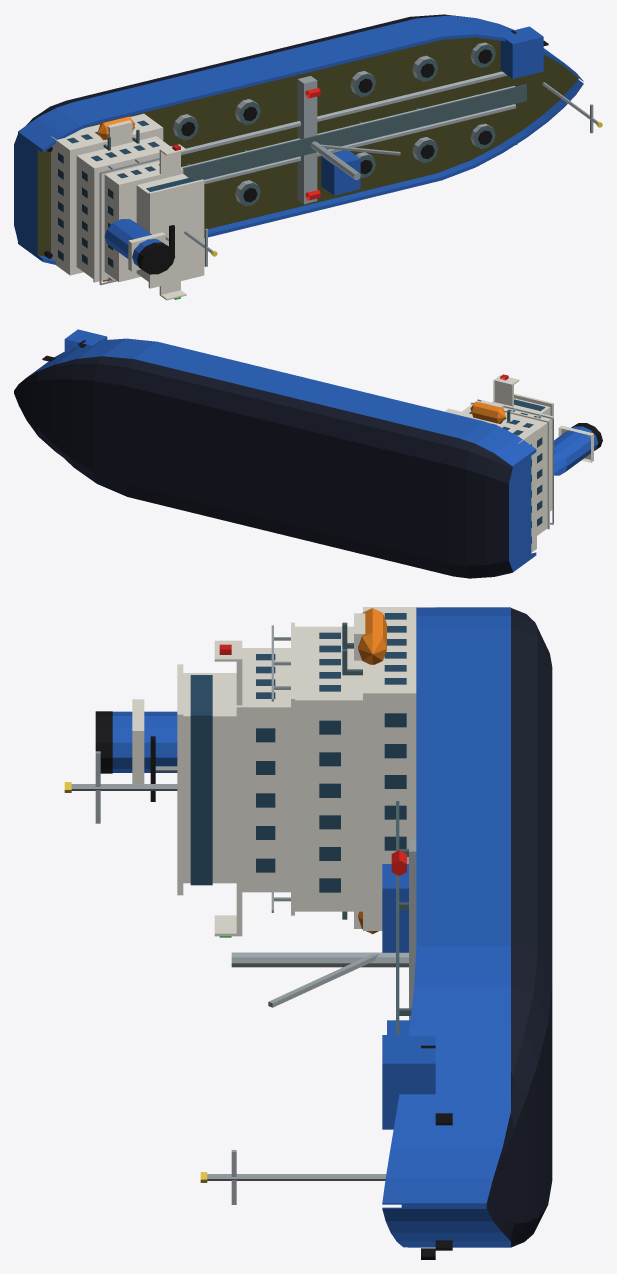
3 renders of one model, top to bottom at view 1: azimuth 30°, elevation 25°; view 2: azimuth 150°, elevation 25°; view 3: azimuth 270°, elevation 25°, orthographic. The views are drawn at different scales.
Parts seen in each view (by area): view 1: default_hull, default_catwalk, default_house0, default_bridge_roof, default_house1, default_house2, default_manifold, default_pumphouse_fore, default_pipe2, default_house1_roof, default_pipe0, default_pumphouse_mid (+8 smaller); view 2: default_hull, default_funnel, default_house1, default_house0, default_boat1, default_pumphouse_fore, default_bridge_wing1, default_house2, default_house1_roof; view 3: default_hull, default_house1, default_house0, default_house2, default_bridge, default_bridge_glass, default_pumphouse_fore, default_funnel, default_kingpost, default_house1_fwin0, default_pumphouse_aft, default_bridge_roof (+10 smaller).
Boxes of the visible parts, bbox=[...] form: default_hull: bbox=[14, 14, 583, 264]; default_catwalk: bbox=[182, 84, 526, 180]; default_house0: bbox=[51, 113, 163, 275]; default_bridge_roof: bbox=[148, 179, 204, 288]; default_house1: bbox=[76, 136, 169, 278]; default_house2: bbox=[104, 161, 183, 281]; default_manifold: bbox=[297, 76, 317, 204]; default_pumphouse_fore: bbox=[500, 26, 543, 78]; default_pipe2: bbox=[181, 71, 507, 155]; default_house1_roof: bbox=[93, 151, 159, 282]; default_pipe0: bbox=[204, 104, 515, 184]; default_pumphouse_mid: bbox=[321, 150, 360, 195]; default_hull: bbox=[14, 338, 536, 578]; default_funnel: bbox=[554, 426, 598, 475]; default_house1: bbox=[462, 404, 547, 535]; default_house0: bbox=[445, 408, 536, 552]; default_boat1: bbox=[470, 401, 505, 423]; default_pumphouse_fore: bbox=[64, 329, 107, 353]; default_bridge_wing1: bbox=[493, 379, 513, 407]; default_house2: bbox=[492, 402, 553, 511]; default_house1_roof: bbox=[470, 402, 549, 529]; default_hull: bbox=[382, 607, 552, 1247]; default_house1: bbox=[295, 626, 362, 911]; default_house0: bbox=[363, 607, 435, 930]; default_house2: bbox=[236, 648, 290, 892]; default_bridge: bbox=[183, 673, 236, 883]; default_bridge_glass: bbox=[190, 675, 212, 885]; default_pumphouse_fore: bbox=[382, 1035, 435, 1129]; default_funnel: bbox=[112, 711, 177, 772]; default_kingpost: bbox=[231, 952, 408, 967]; default_house1_fwin0: bbox=[319, 720, 340, 892]; default_pumphouse_aft: bbox=[382, 864, 408, 952]; default_bridge_roof: bbox=[177, 664, 183, 895].
Bounding box in the file's own units: 24 × 6.86 × 10.04.
